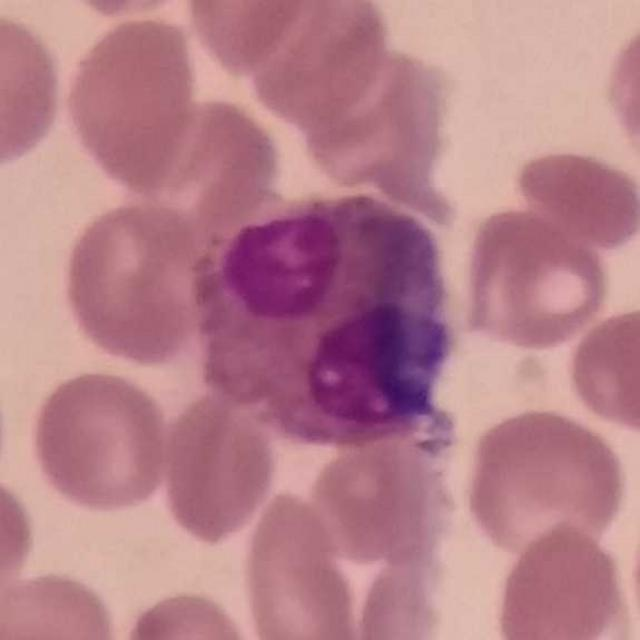Eosinophil: (192, 192, 469, 458)
RBC: (56, 196, 216, 369), (459, 403, 633, 562), (58, 10, 204, 198), (295, 39, 455, 204), (454, 203, 618, 354), (24, 365, 176, 518), (156, 373, 283, 550), (306, 426, 458, 570), (122, 100, 278, 237), (235, 484, 364, 640), (490, 518, 638, 640), (248, 0, 390, 127), (506, 142, 640, 255), (0, 5, 70, 176), (347, 535, 459, 639), (562, 300, 640, 440), (182, 0, 318, 77), (0, 565, 124, 640), (114, 584, 266, 640), (599, 6, 640, 182), (0, 466, 40, 611), (46, 0, 214, 21)
